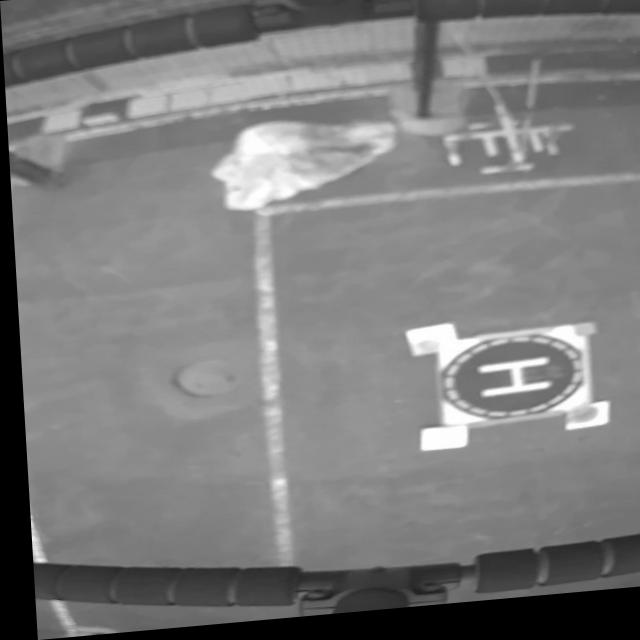Helipad: (470, 364, 551, 406)
